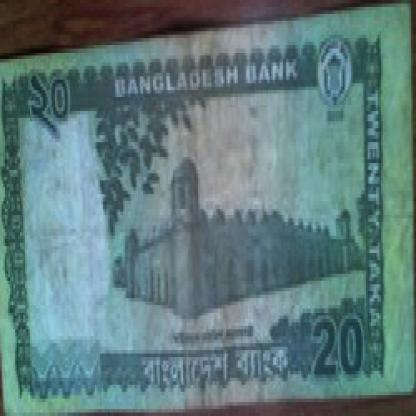Twenty: (17, 59, 88, 139), (304, 312, 379, 385)
